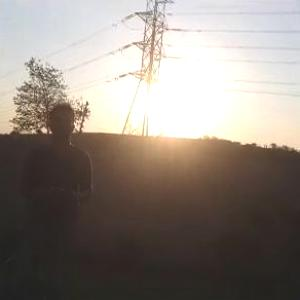follow: (14, 94, 96, 299)
